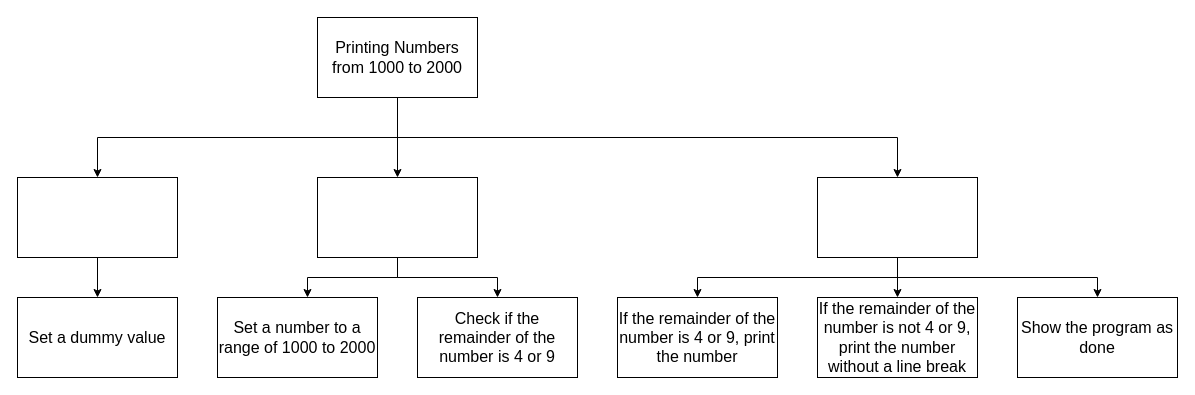
Image size: 1195x395. Some labels were removed from this diagram. The shapes that lost their labels are listed below. From the top down, each one's centre as x and y in pixels, then its label:
(97,217): Input
(397,217): Process
(897,217): Output
